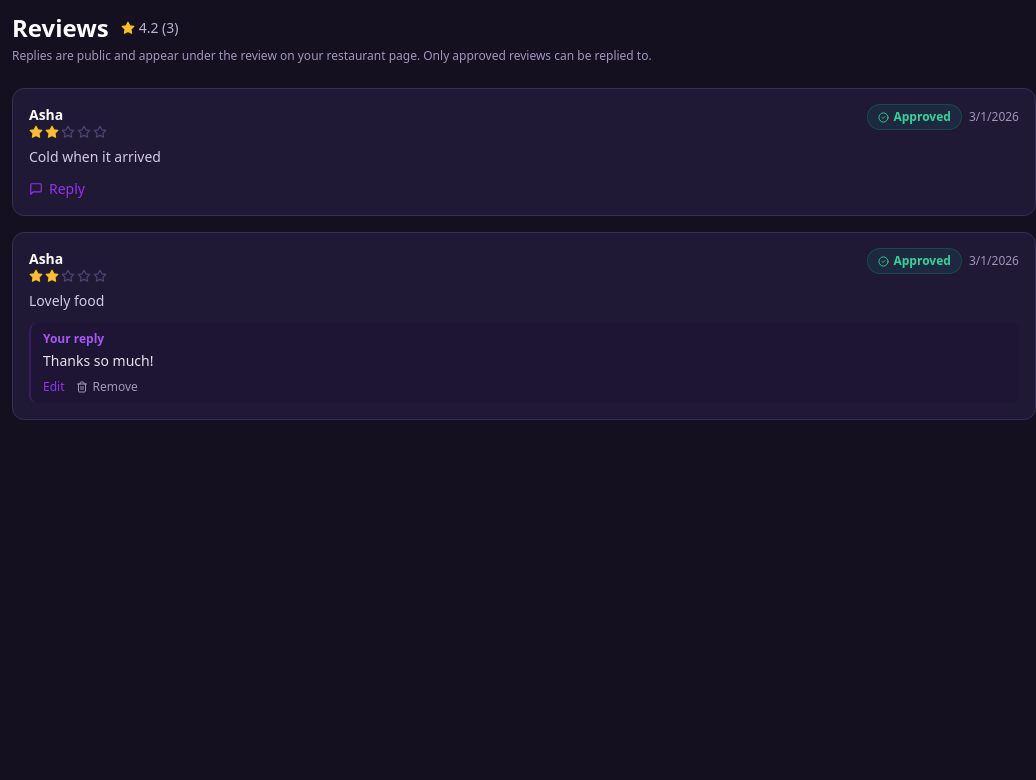
Test: Owner Reviews page — replies › publishes a reply and shows it without a full refetch
The image size is (1036, 780).
Expected: the text "Cold when it arrived" is shown, 29,147 -> 161,166
Click the button "Reply" at x=57, y=189, box 29,179 -> 85,199
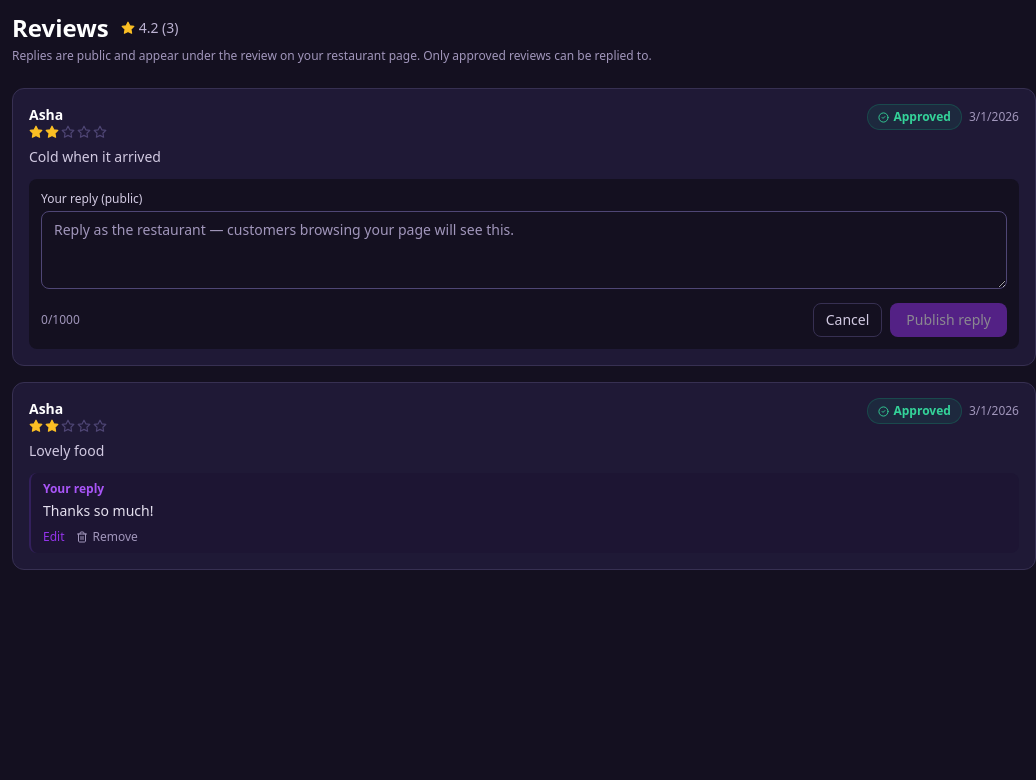
Type "Sorry about that — refund sent." into the text box labelled "Your reply (public)" at x=524, y=250, box 41,211 -> 1007,289
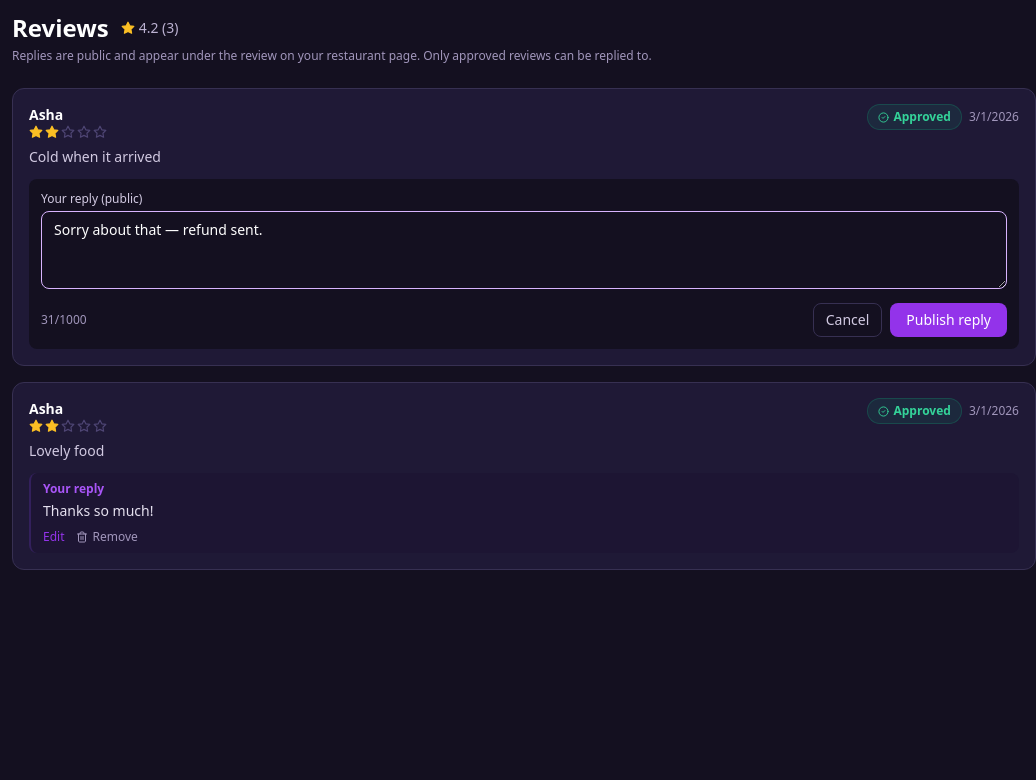
Click the button "Publish reply" at x=949, y=320, box 890,303 -> 1007,337
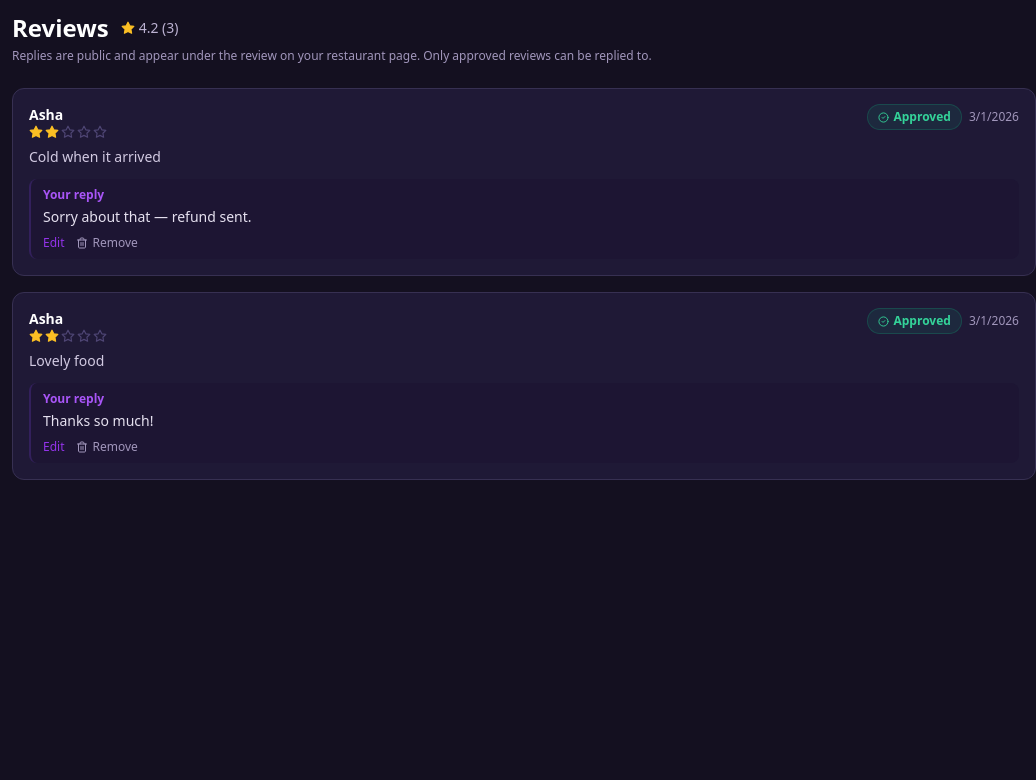
Now the text "Sorry about that — refund sent." is shown, box 43,207 -> 252,226
